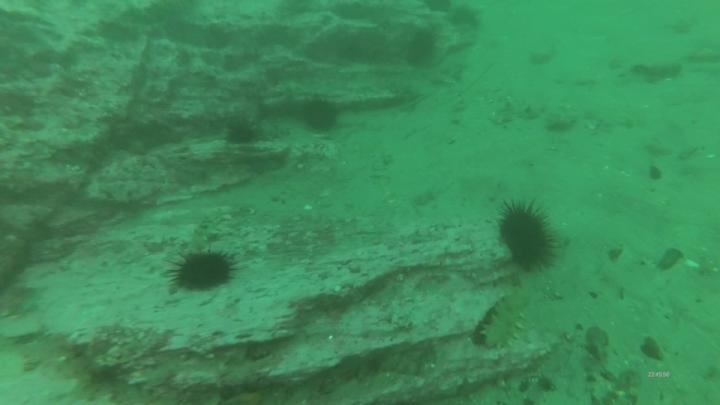echinus: (495, 200, 559, 275), (163, 250, 238, 294), (301, 95, 340, 138), (406, 30, 439, 68), (224, 123, 258, 149), (425, 1, 456, 16)
holothurian: (478, 291, 529, 354)
